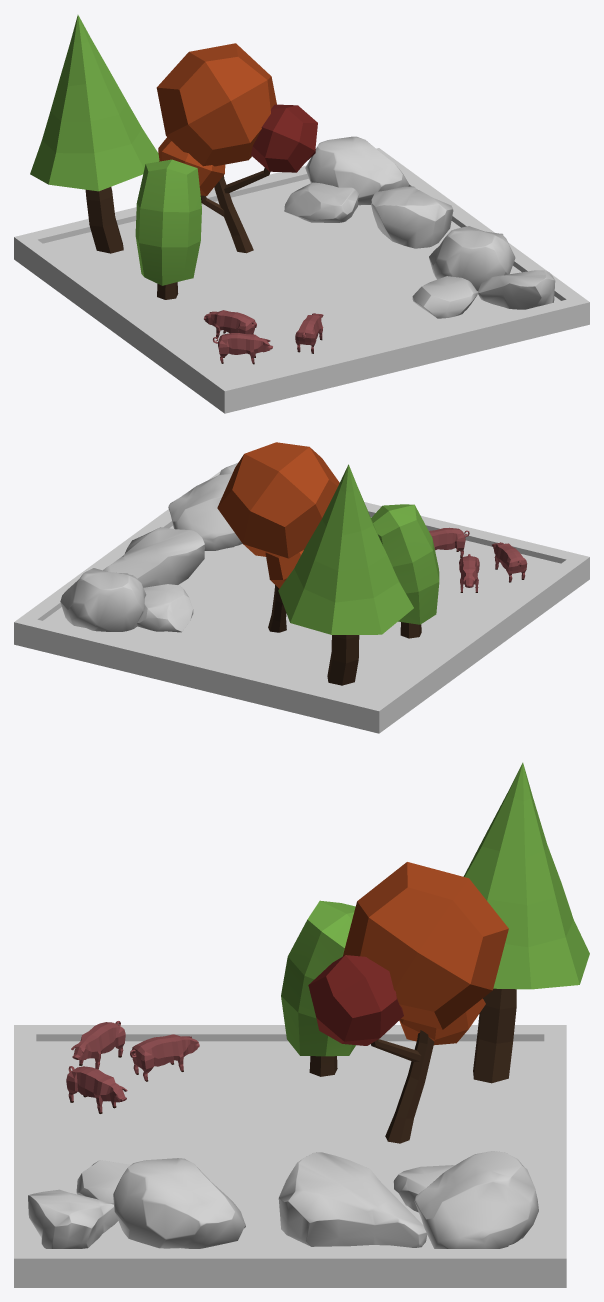
The model's file is casilla.FBX.
The picture shows the model from 3 angles, top to bottom: view 1: azimuth 30°, elevation 25°; view 2: azimuth 150°, elevation 25°; view 3: azimuth 270°, elevation 25°; orthographic projection. The views are drawn at different scales.
Visible parts, largest first — view 1: floor, marco, pCylinder356.049, group267_pCylinder347.042, pCylinder366.011, default, default001, default003, default004, default002, default005, Pig (+2 smaller); view 2: floor, marco, group267_pCylinder347.042, pCylinder356.049, pCylinder366.011, default, default001, default003, default002, Pig, Pig001, Pig002; view 3: floor, marco, pCylinder356.049, group267_pCylinder347.042, default001, default, default003, pCylinder366.011, default004, Pig002, Pig001, Pig (+2 smaller).
Part boxes in pixels (bbox=[...]): floor: bbox=[43, 179, 560, 381]; marco: bbox=[14, 148, 589, 413]; pCylinder356.049: bbox=[156, 43, 317, 253]; group267_pCylinder347.042: bbox=[30, 15, 159, 253]; pCylinder366.011: bbox=[135, 159, 201, 299]; default: bbox=[305, 136, 409, 205]; default001: bbox=[371, 186, 453, 248]; default003: bbox=[429, 226, 515, 291]; default004: bbox=[478, 270, 555, 309]; default002: bbox=[284, 182, 359, 222]; default005: bbox=[412, 276, 477, 318]; Pig: bbox=[213, 333, 272, 364]; floor: bbox=[43, 517, 560, 701]; marco: bbox=[14, 471, 589, 733]; group267_pCylinder347.042: bbox=[278, 464, 413, 685]; pCylinder356.049: bbox=[217, 442, 339, 632]; pCylinder366.011: bbox=[371, 504, 439, 638]; default: bbox=[60, 568, 146, 631]; default001: bbox=[103, 527, 204, 587]; default003: bbox=[168, 473, 242, 550]; default002: bbox=[137, 584, 193, 632]; Pig: bbox=[492, 542, 527, 582]; Pig001: bbox=[429, 527, 469, 557]; Pig002: bbox=[459, 554, 479, 592]; floor: bbox=[36, 1041, 544, 1248]; marco: bbox=[14, 1025, 566, 1287]; pCylinder356.049: bbox=[308, 862, 508, 1143]; group267_pCylinder347.042: bbox=[463, 762, 589, 1083]; default001: bbox=[278, 1152, 427, 1247]; default: bbox=[414, 1151, 538, 1248]; default003: bbox=[113, 1158, 245, 1248]; pCylinder366.011: bbox=[281, 900, 355, 1076]; default004: bbox=[28, 1189, 118, 1248]; Pig002: bbox=[130, 1034, 199, 1081]; Pig001: bbox=[66, 1066, 127, 1113]; Pig: bbox=[71, 1021, 125, 1069].
Size of the model in its own units: 487 by 314 by 507.
